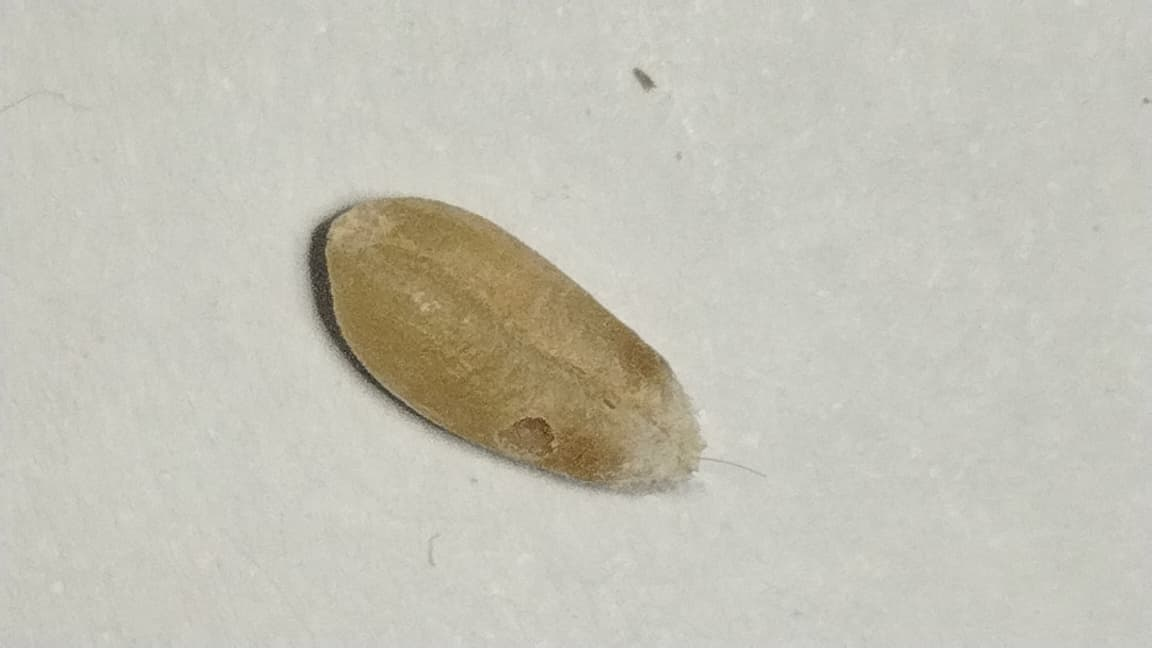damage: (323, 196, 707, 495)
insectdamage: (482, 382, 619, 462)
